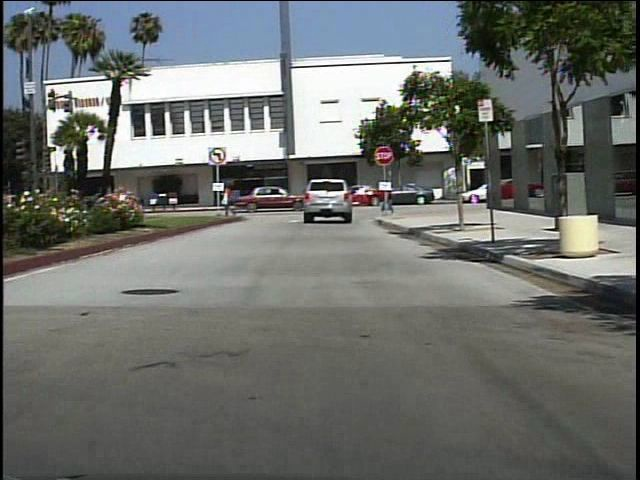person: (377, 174, 399, 217), (223, 180, 243, 217), (257, 180, 273, 207)
